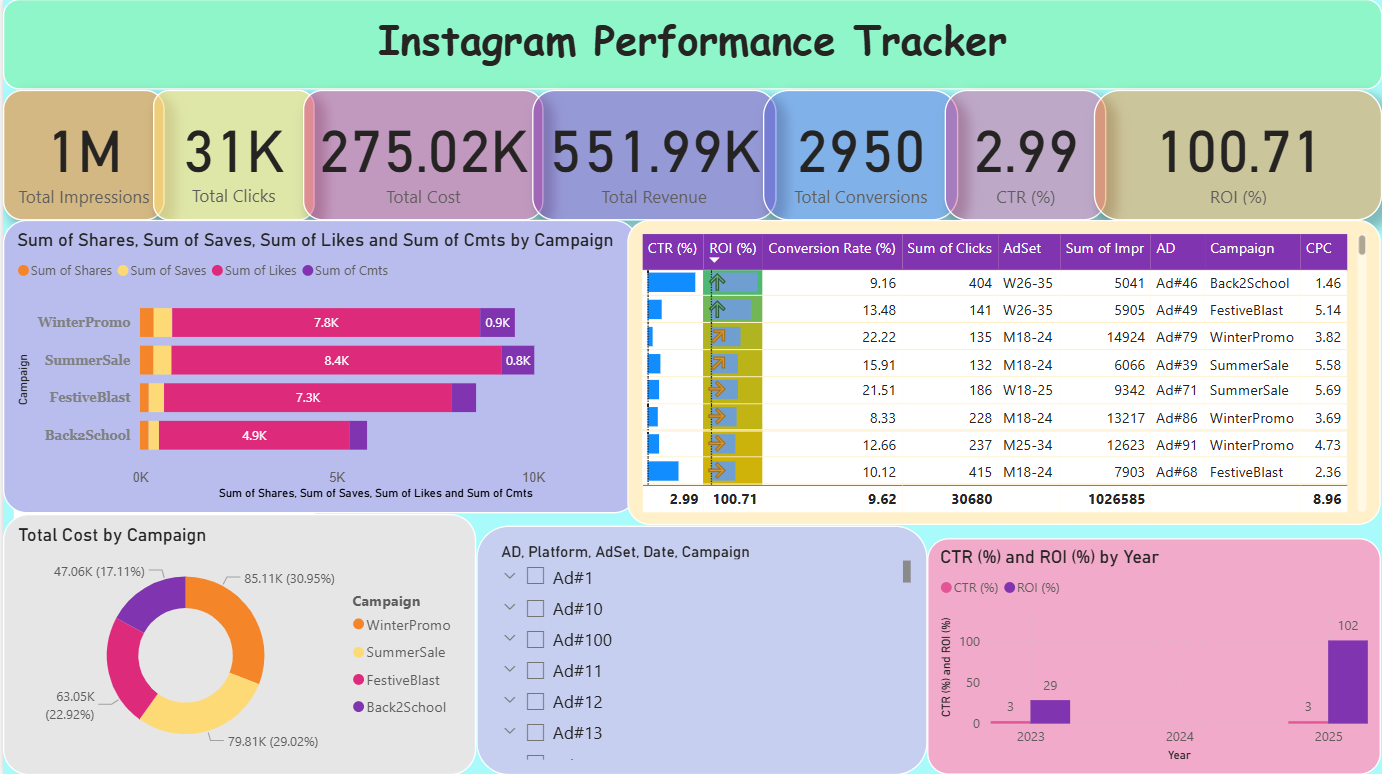

The page's visual inventory and layout, read from the dashboard file:
{"tool":"powerbi","page":{"name":"Page 1","canvas":[1280,720],"ordinal":0},"visuals":[{"type":"textbox","box":[0,0,1280.3,84.4],"z":0},{"type":"textbox","box":[10,290,280,280],"z":1000},{"type":"card","fields":{"Values":["Sheet1.Total Impressions"]},"box":[0,84.4,150.4,121.1],"z":2000},{"type":"card","fields":{"Values":["Sheet1.Total Clicks"]},"box":[139.4,84.4,150.4,121.1],"z":3000},{"type":"card","fields":{"Values":["Sheet1.Total Cost"]},"box":[278.8,84.4,223.8,121.1],"z":4000},{"type":"card","fields":{"Values":["Sheet1.Total Revenue"]},"box":[491.6,84.4,226.2,121.1],"z":5000},{"type":"card","fields":{"Values":["Sheet1.Total Conversions"]},"box":[705.6,84.4,181,121.1],"z":6000},{"type":"card","fields":{"Values":["Sheet1.CTR (%)"]},"box":[874.3,84.4,150.4,121.1],"z":7000},{"type":"card","fields":{"Values":["Sheet1.ROI (%)"]},"box":[1012.5,84.4,267.8,121.1],"z":8000},{"type":"barChart","fields":{"Y":["Sum(Sheet1.Shares)","Sum(Sheet1.Saves)","Sum(Sheet1.Likes)","Sum(Sheet1.Cmts)"],"Category":["Sheet1.Campaign"]},"box":[0,205.1,588.7,272.7],"z":9000},{"type":"clusteredColumnChart","fields":{"Category":["Sheet1.Date.Variation.Date Hierarchy.Year","Sheet1.Date.Variation.Date Hierarchy.Quarter","Sheet1.Date.Variation.Date Hierarchy.Month","Sheet1.Date.Variation.Date Hierarchy.Day"],"Y":["Sheet1.CTR (%)","Sheet1.ROI (%)"]},"box":[857.8,500.7,421,219.6],"z":10000},{"type":"donutChart","fields":{"Y":["Sheet1.Total Cost"],"Category":["Sheet1.Campaign"]},"box":[0,477.8,439.1,242.5],"z":11000},{"type":"tableEx","fields":{"Values":["Sheet1.CTR (%)","Sheet1.ROI (%)","Sheet1.Conversion Rate (%)","Sum(Sheet1.Clicks)","Sheet1.AdSet","Sum(Sheet1.Impr)","Sheet1.AD","Sheet1.Campaign","Sheet1.CPC"]},"box":[579.1,205.1,699.7,283.5],"z":12000},{"type":"slicer","fields":{"Values":["Sheet1.AD","Sheet1.Platform","Sheet1.AdSet","Sheet1.Date","Sheet1.Campaign"]},"box":[439.1,488.6,418.6,231.6],"z":13000}]}

Visuals, with their boxes in screenshot pixels (x1, y1, x2, y2), scaled from the page's 1280x720 canvas onto the 1382x774 screenshot:
textbox: (x1=0, y1=0, x2=1381, y2=91)
textbox: (x1=11, y1=312, x2=313, y2=613)
card - Sheet1.Total Impressions: (x1=0, y1=91, x2=162, y2=221)
card - Sheet1.Total Clicks: (x1=151, y1=91, x2=313, y2=221)
card - Sheet1.Total Cost: (x1=301, y1=91, x2=543, y2=221)
card - Sheet1.Total Revenue: (x1=531, y1=91, x2=775, y2=221)
card - Sheet1.Total Conversions: (x1=762, y1=91, x2=957, y2=221)
card - Sheet1.CTR (%): (x1=944, y1=91, x2=1106, y2=221)
card - Sheet1.ROI (%): (x1=1093, y1=91, x2=1381, y2=221)
barChart - Sum(Sheet1.Shares) x Sum(Sheet1.Saves): (x1=0, y1=220, x2=636, y2=514)
clusteredColumnChart - Sheet1.Date.Variation.Date Hierarchy.Year x Sheet1.Date.Variation.Date Hierarchy.Quarter: (x1=926, y1=538, x2=1381, y2=773)
donutChart - Sheet1.Total Cost x Sheet1.Campaign: (x1=0, y1=514, x2=474, y2=773)
tableEx - Sheet1.CTR (%) x Sheet1.ROI (%): (x1=625, y1=220, x2=1381, y2=525)
slicer - Sheet1.AD x Sheet1.Platform: (x1=474, y1=525, x2=926, y2=773)
